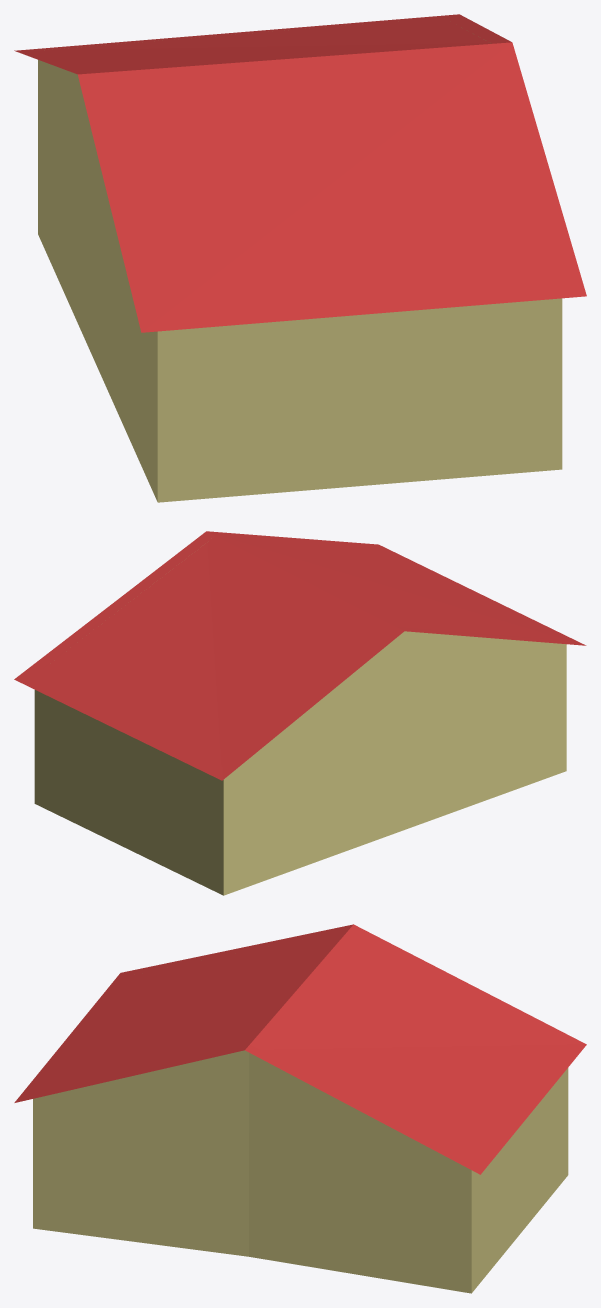
3 renders of one model, top to bottom at view 1: azimuth 30°, elevation 25°; view 2: azimuth 150°, elevation 25°; view 3: azimuth 270°, elevation 25°, orthographic. The views are drawn at different scales.
Bounding box in the file's own units: 23.96 × 29.09 × 11.9.
